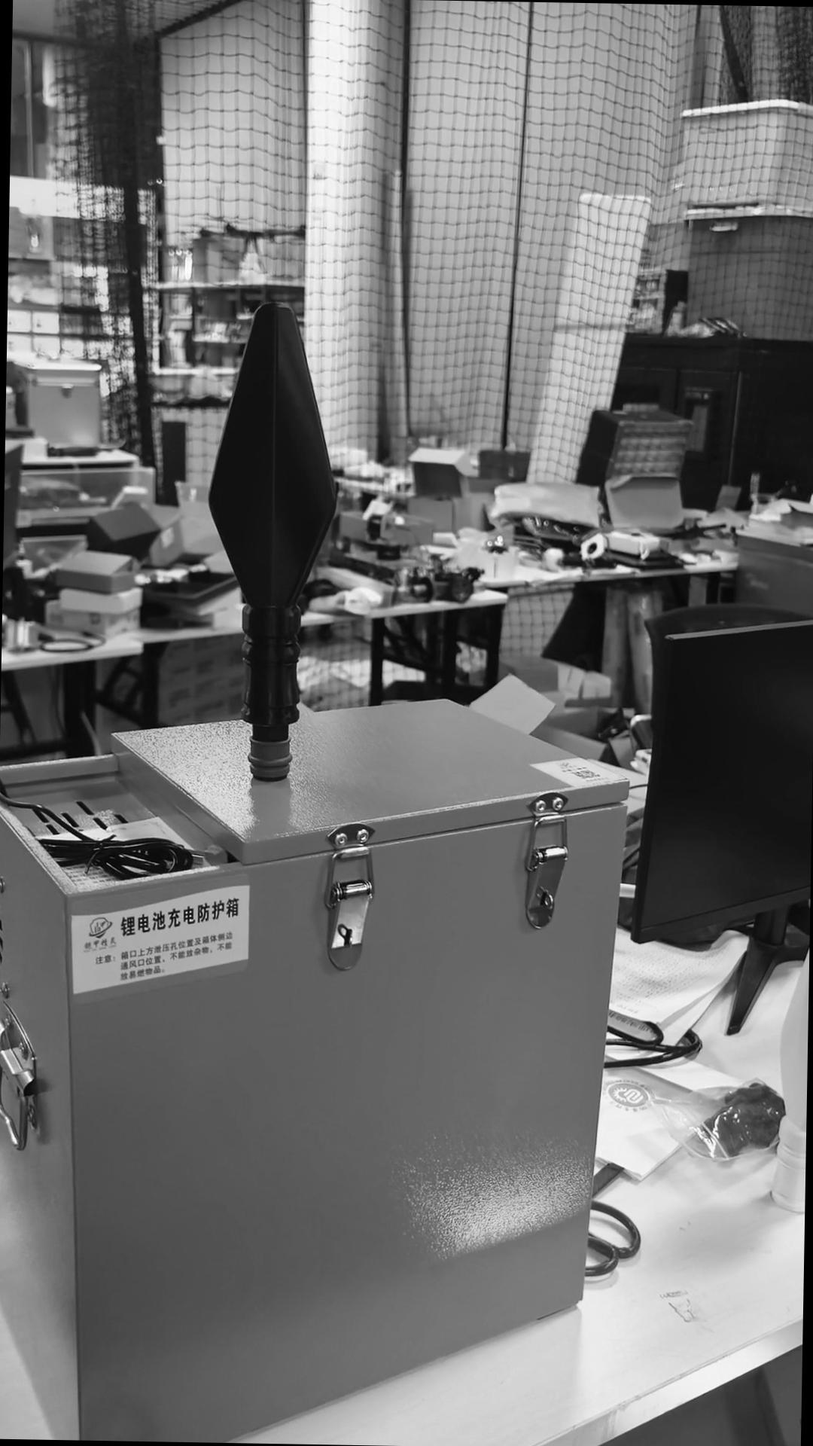base: (248, 738, 292, 782)
